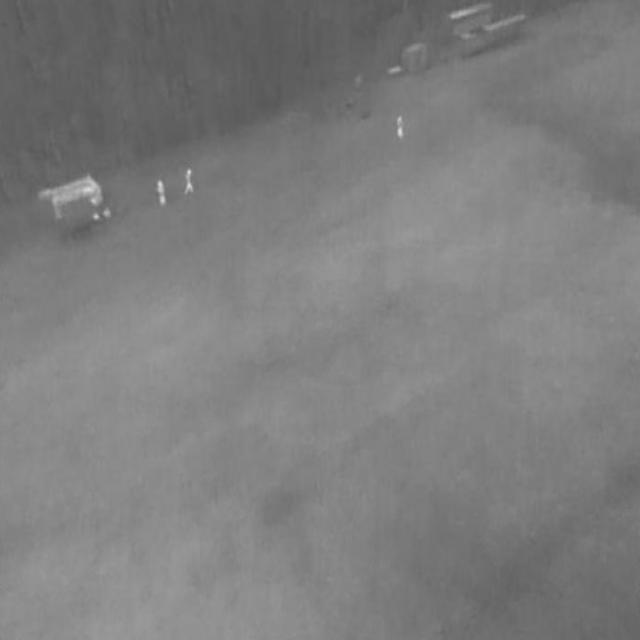person: (185, 168, 195, 196), (157, 181, 167, 207), (397, 116, 404, 138)
